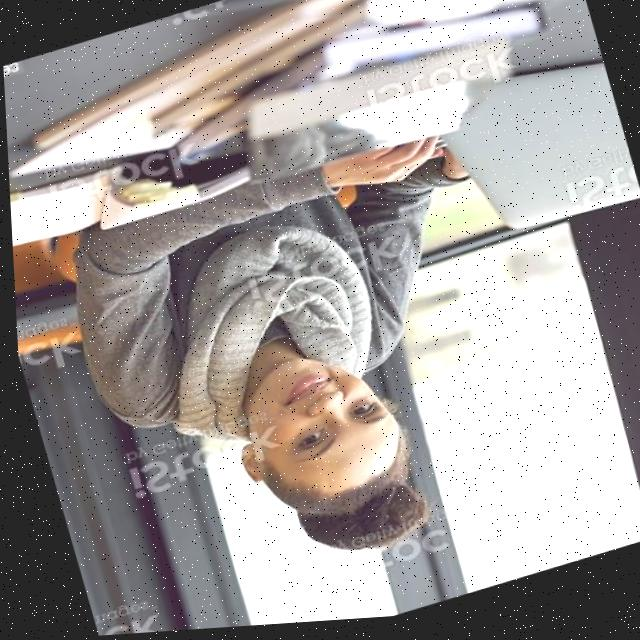studying-person: (7, 139, 471, 592)
